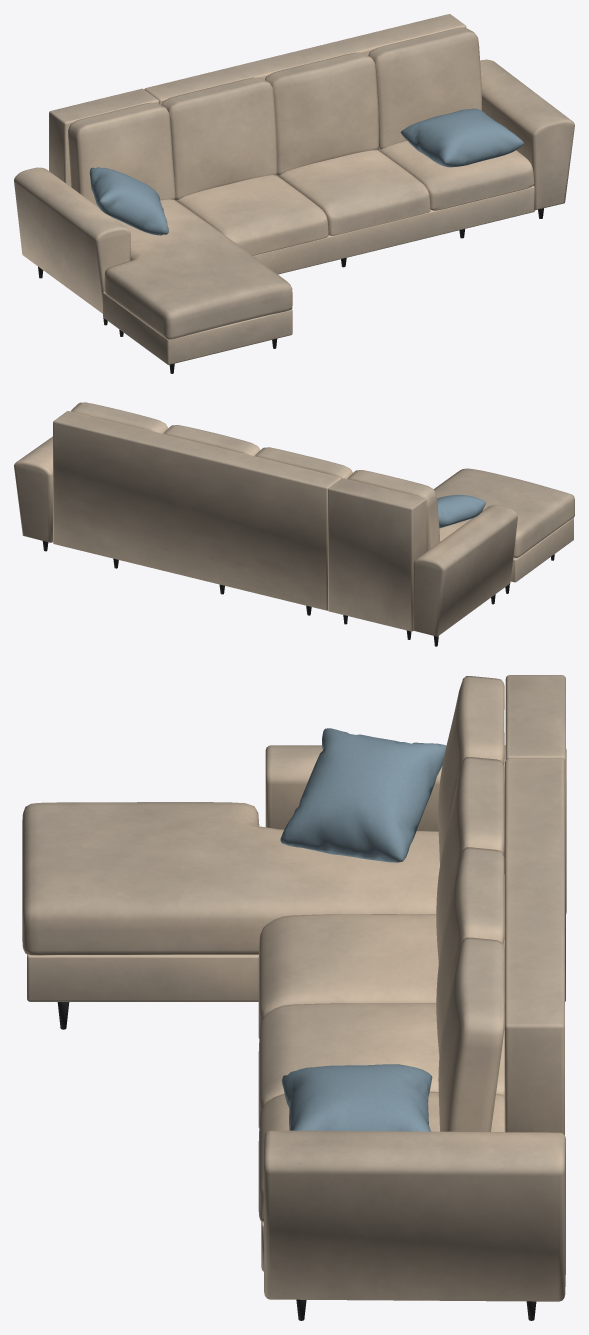
The model's file is sofa2.glb.
The picture shows the model from 3 angles, top to bottom: view 1: azimuth 30°, elevation 25°; view 2: azimuth 150°, elevation 25°; view 3: azimuth 270°, elevation 25°; orthographic projection. The views are drawn at different scales.
Visible parts, largest first — view 1: Sofa; view 2: Sofa; view 3: Sofa.
Boxes of the visible parts, bbox=[...] form: Sofa: bbox=[14, 14, 574, 373]; Sofa: bbox=[14, 402, 574, 646]; Sofa: bbox=[22, 675, 566, 1320].
Size of the model in its own units: 3.31 by 1.04 by 1.81.
Materials: 1 (1 with a texture image).
